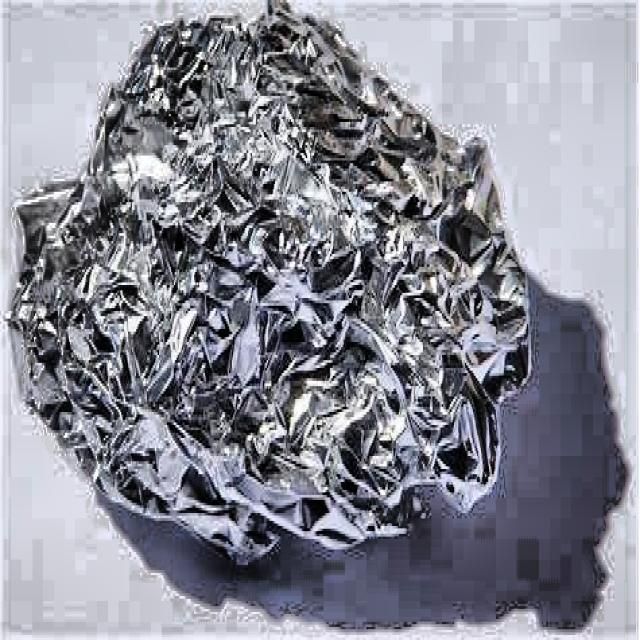Foil: (0, 0, 537, 575)
